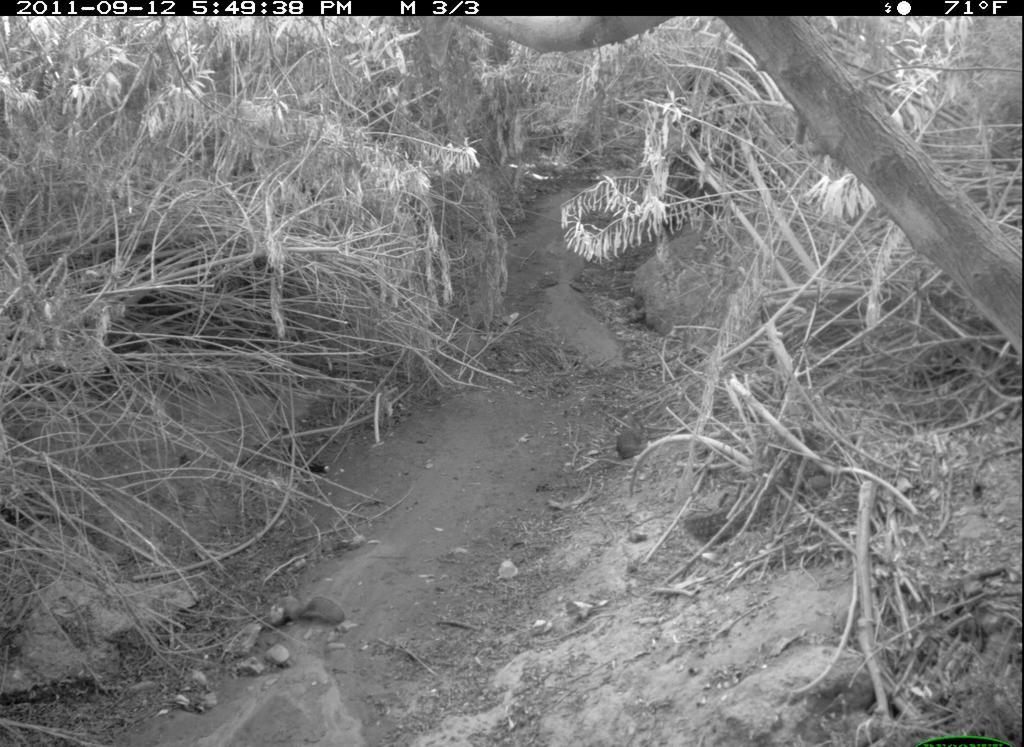squirrel: (250, 588, 351, 641)
